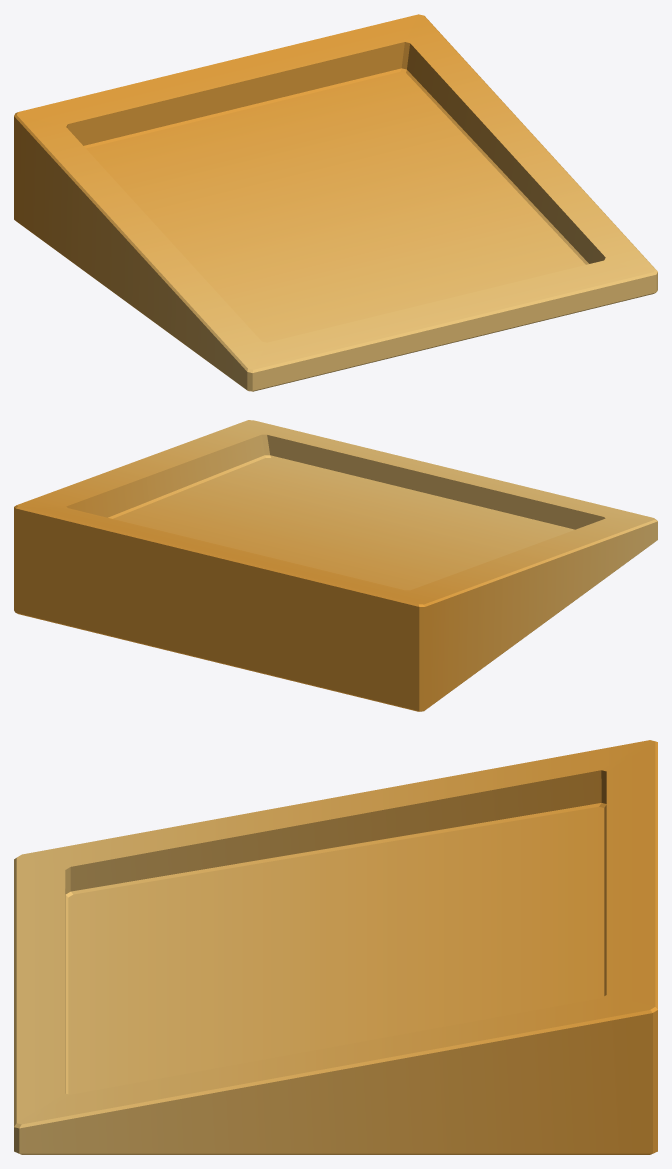
Rendered from Tile_WadahEmas.fbx.
The picture shows the model from 3 angles, top to bottom: view 1: azimuth 30°, elevation 25°; view 2: azimuth 150°, elevation 25°; view 3: azimuth 270°, elevation 25°; orthographic projection. The views are drawn at different scales.
Parts seen in each view (by area): view 1: Alas Tile.001; view 2: Alas Tile.001; view 3: Alas Tile.001.
Boxes of the visible parts, x1,y1,x2,y2 form: Alas Tile.001: [14, 14, 657, 391]; Alas Tile.001: [14, 420, 657, 711]; Alas Tile.001: [14, 740, 657, 1154].
Bounding box in the file's own units: 12 × 3 × 12.
1 material, 1 textured.
